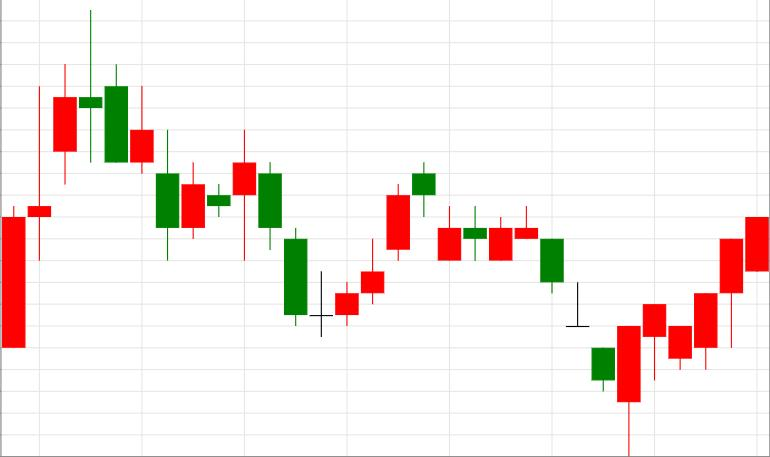bullish_engulfing_rise: (412, 163, 641, 456)
